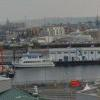Boat: (13, 46, 59, 73)
